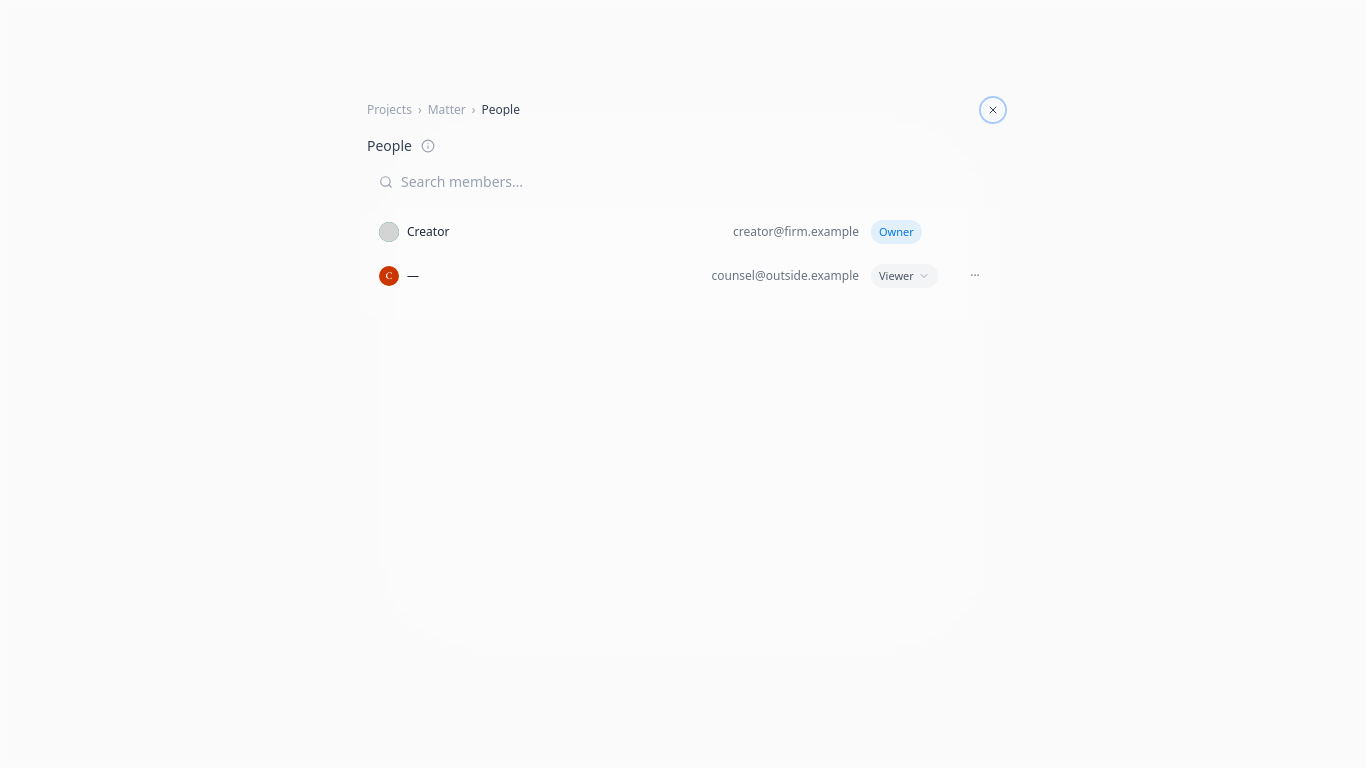
AccessModal — per-recipient roles › shows an organization's private item, shared only with its members
Expected: the dialog "People" is shown, [367,100,1003,320]
Type "firm.example" into the search field labelled "People" at x=694, y=182, box [401,172,987,192]
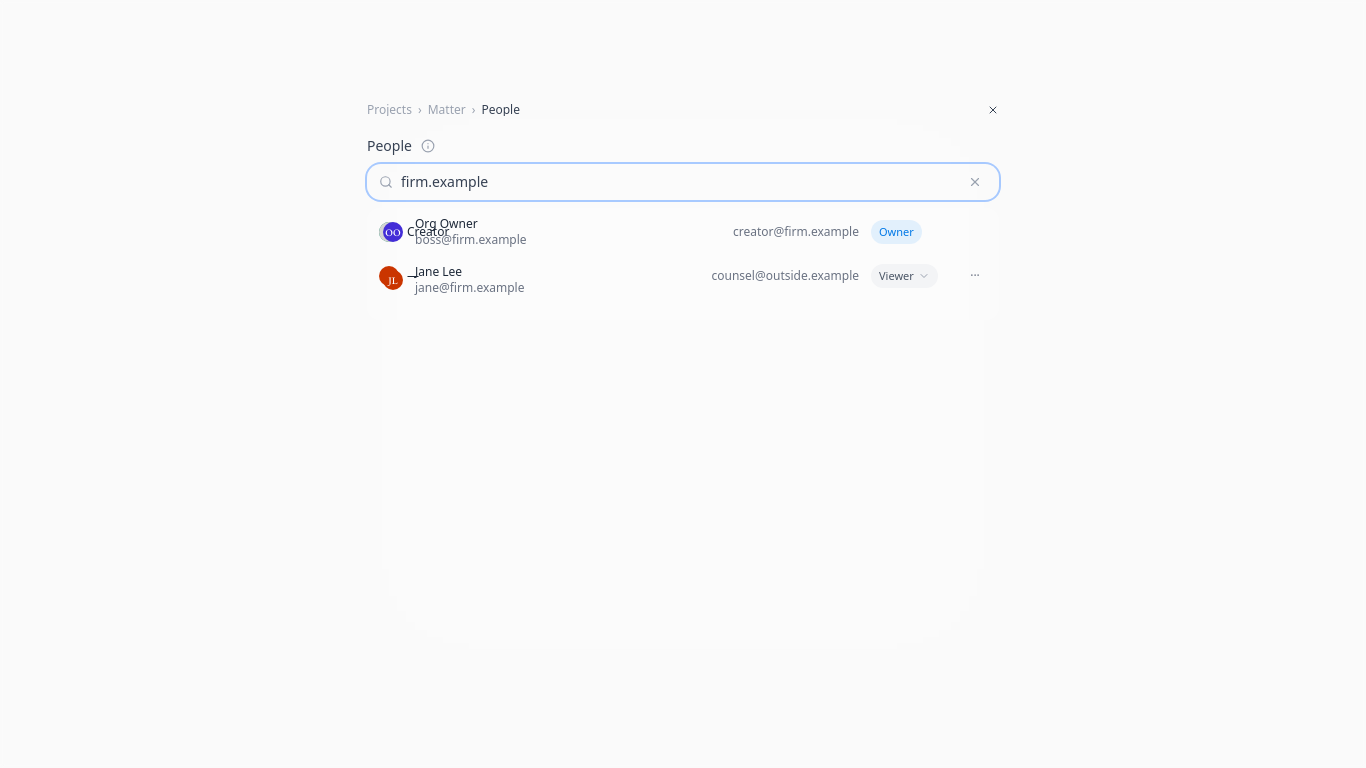
Expected: the text "Creator" is shown, [407,224,449,240]
Expected: the text "Jane Lee" is shown, [415,263,462,280]
Expected: the text "Org Owner" is shown, [415,215,478,232]
